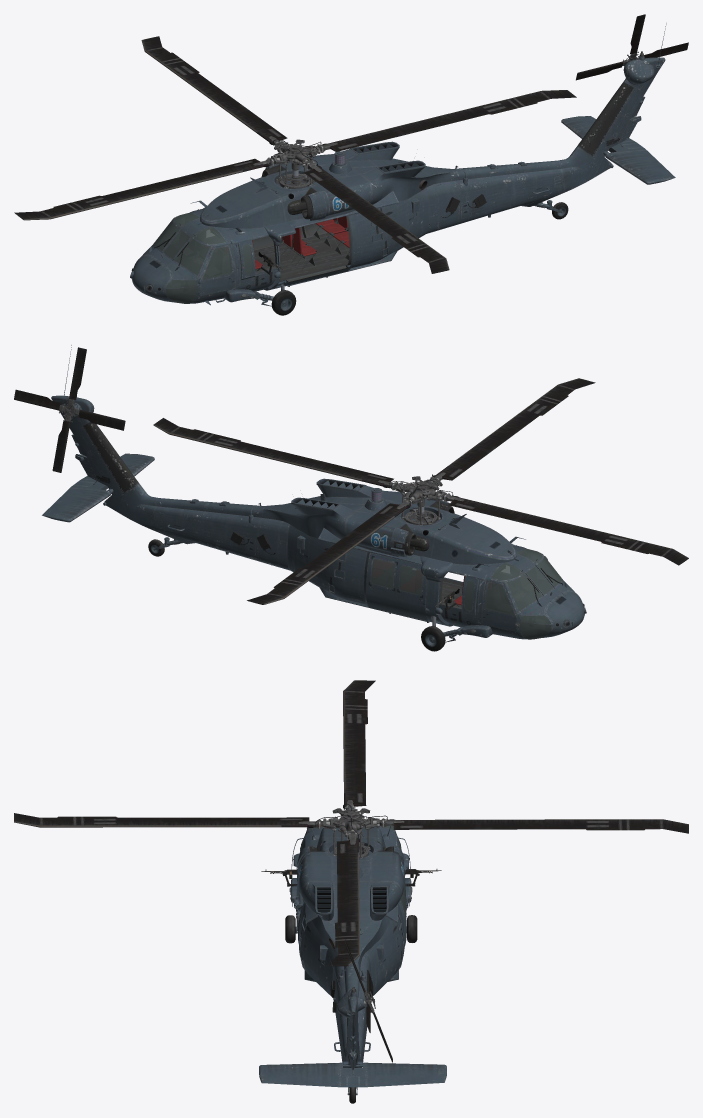
The picture shows the model from 3 angles, top to bottom: view 1: azimuth 30°, elevation 25°; view 2: azimuth 150°, elevation 25°; view 3: azimuth 270°, elevation 25°; orthographic projection. The views are drawn at different scales.
Visible parts, largest first — view 1: body, rotor; view 2: body, rotor; view 3: body, rotor.
Boxes of the visible parts, bbox=[...] form: body: bbox=[130, 14, 688, 315]; rotor: bbox=[14, 36, 576, 273]; body: bbox=[14, 345, 586, 651]; rotor: bbox=[153, 378, 688, 604]; body: bbox=[259, 816, 446, 1103]; rotor: bbox=[14, 680, 688, 966].
Bounding box in the file's own units: 25.9 × 6.92 × 20.88.
Materials: 3 (2 with a texture image).
